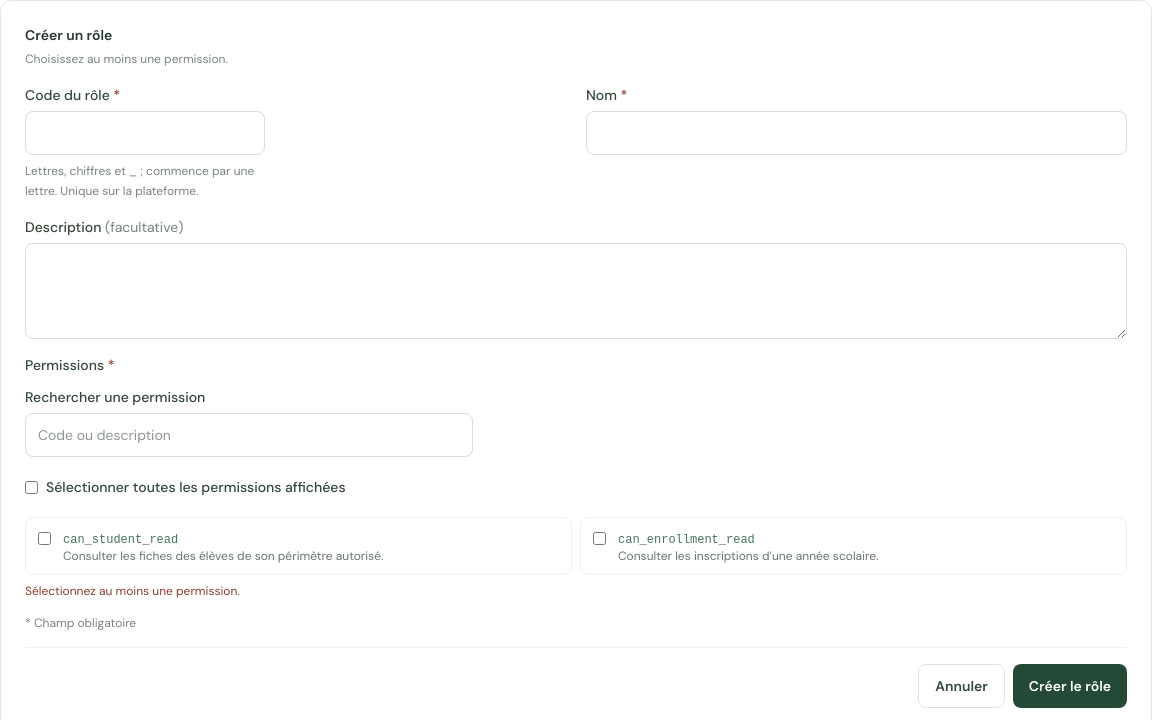
Test: RoleFormComponent › filters permissions without clearing selections hidden by the search
Click the 2nd checkbox at {"x": 44, "y": 538}, box [38,532,51,545]
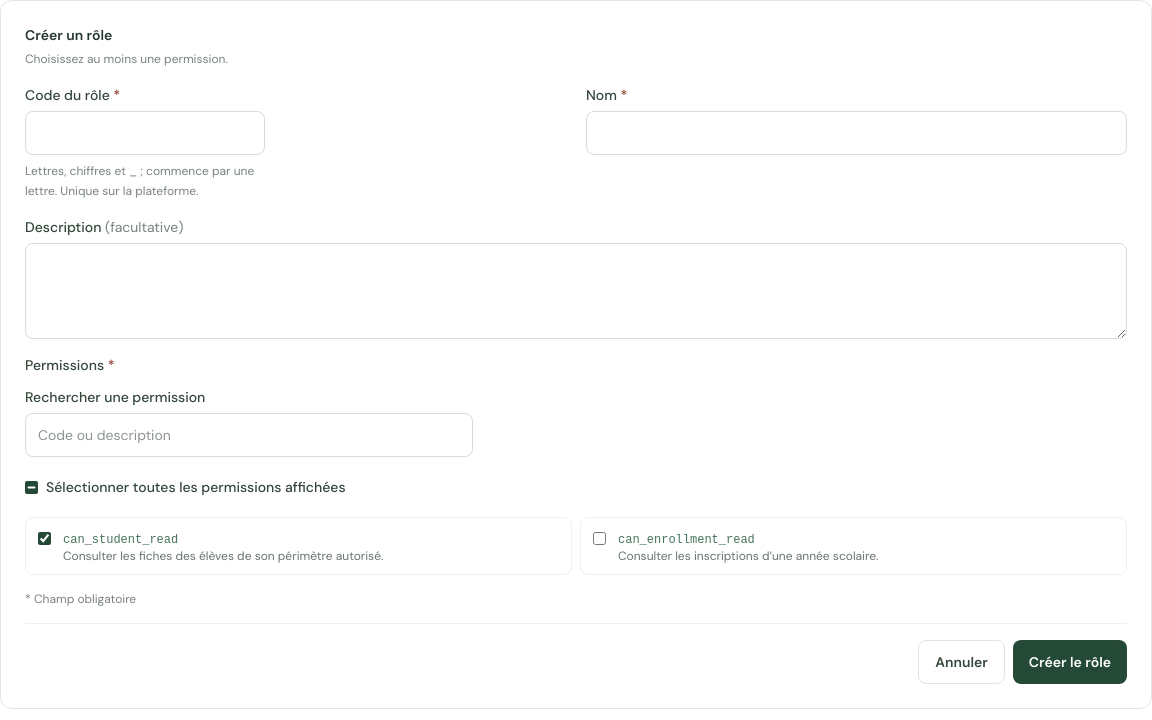
Type "inscriptions" into the search field labelled "Rechercher une permission" at {"x": 249, "y": 435}, box [25,413,473,457]
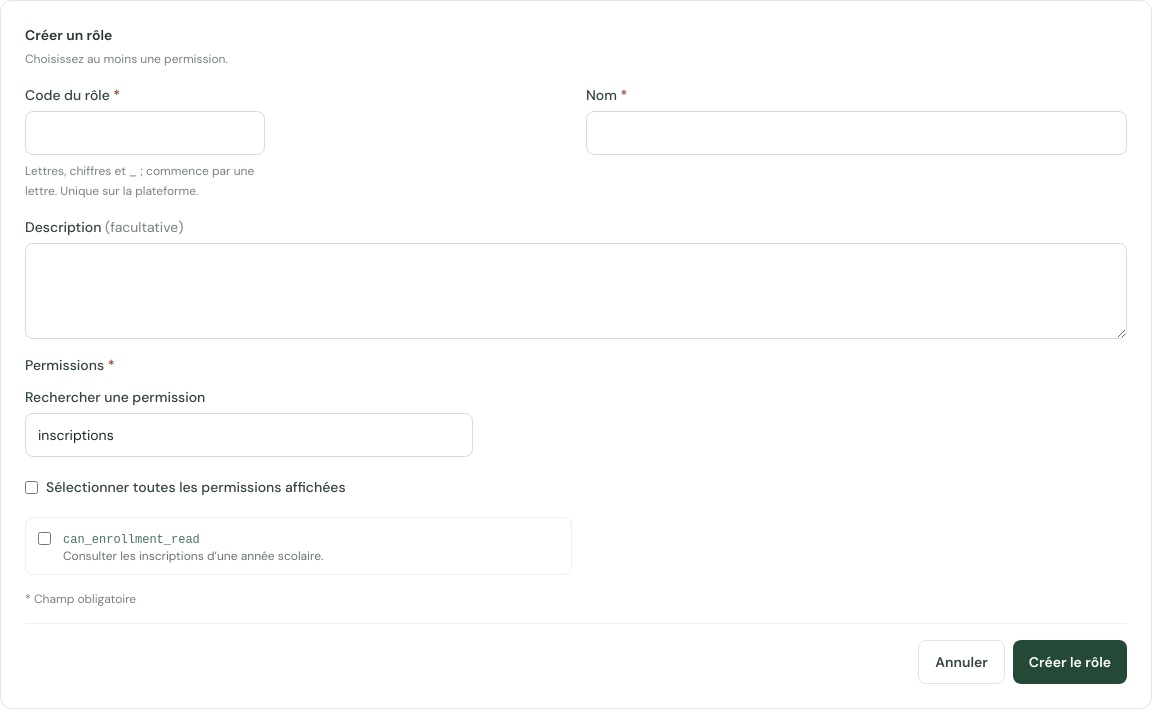
Expected: the number of checkboxes is 2, [25,480,38,494]; [38,532,51,545]
Clear the search field labelled "Rechercher une permission" at {"x": 249, "y": 435}, box [25,413,473,457]
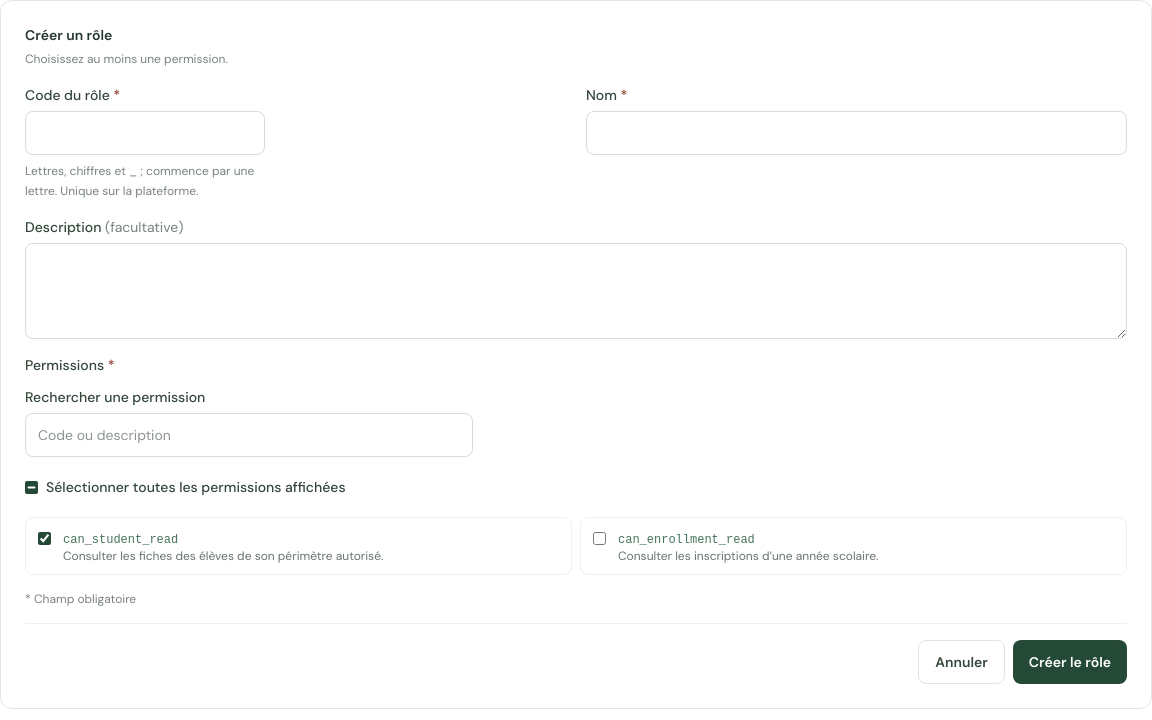
Expected: the number of checkboxes is 3, [25,480,38,494]; [38,532,51,545]; [593,532,606,545]
Result: the 2nd checkbox is checked at [38,532,51,545]
